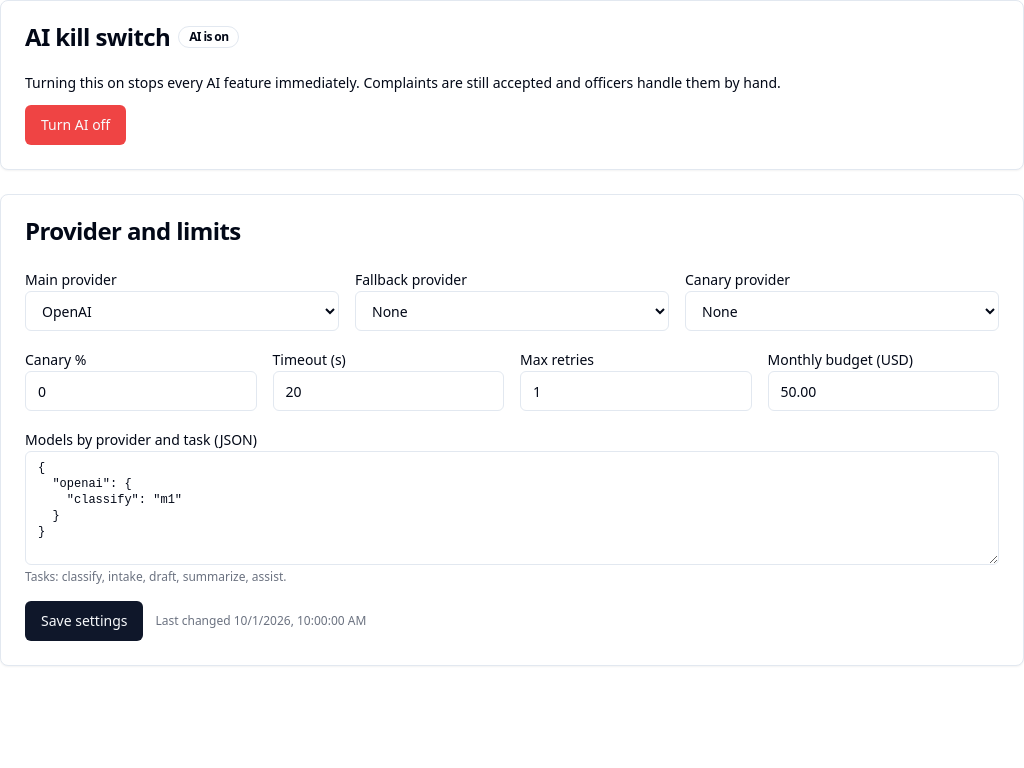
Test: admin AI settings › shows field errors from the server
Click the button "Save settings" at (84, 621), box [25,601,144,641]
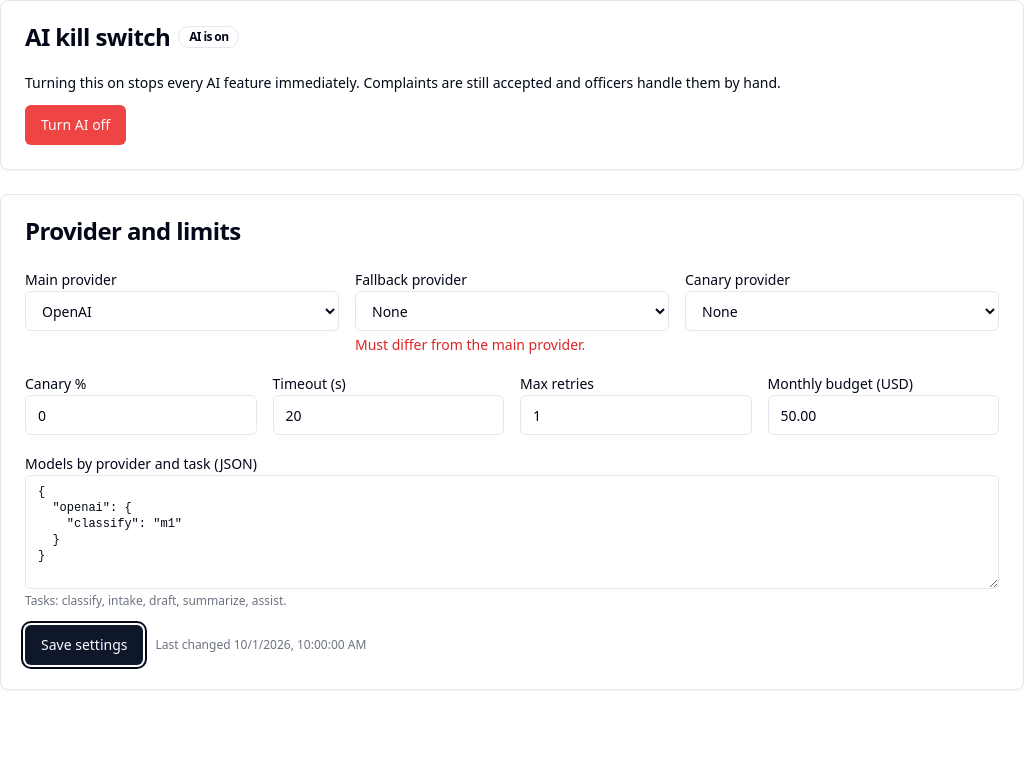
Expected: the text "Must differ from the main provider." is shown, [355,335,585,354]
